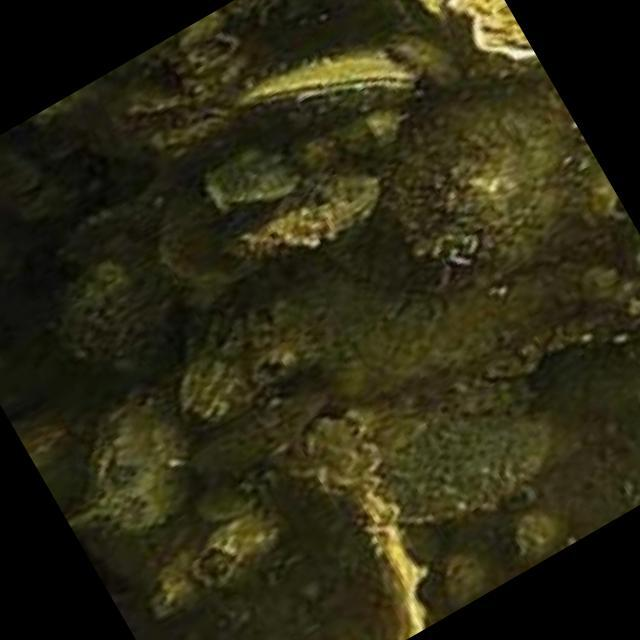Oyster- Indeterminate: (28, 195, 223, 394), (370, 396, 557, 537)
Oyster-Closed: (273, 436, 442, 640), (68, 384, 212, 531), (225, 49, 414, 145)
